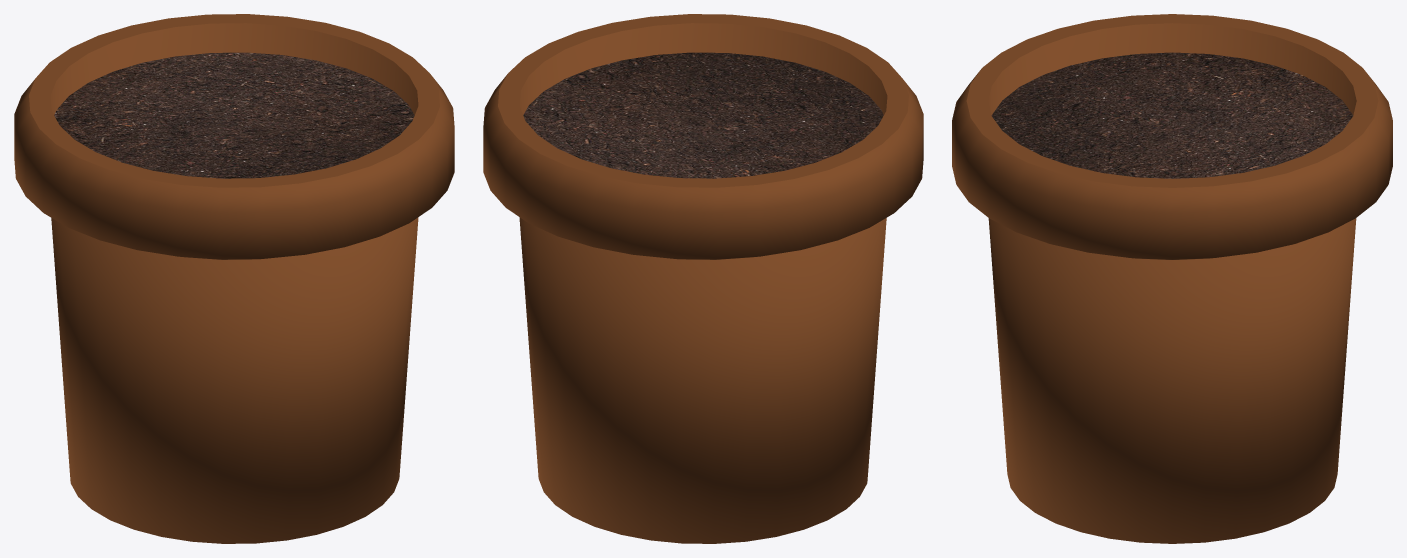
The model's file is plant_pot.glb.
3 renders of one model, left to right at view 1: azimuth 30°, elevation 25°; view 2: azimuth 150°, elevation 25°; view 3: azimuth 270°, elevation 25°, orthographic.
Visible parts, largest first — view 1: PlantPot; view 2: PlantPot; view 3: PlantPot.
Part boxes in pixels (<box>): PlantPot: <box>14,14,454,543</box>; PlantPot: <box>483,14,923,543</box>; PlantPot: <box>952,14,1392,543</box>.
Size of the model in its own units: 1.31 by 1.22 by 1.31.
Materials: 2 (1 with a texture image).
